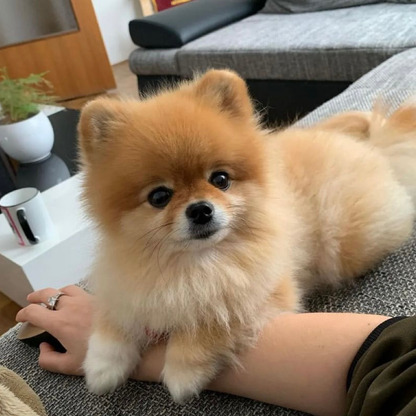Pomeranian: (61, 65, 399, 374)
